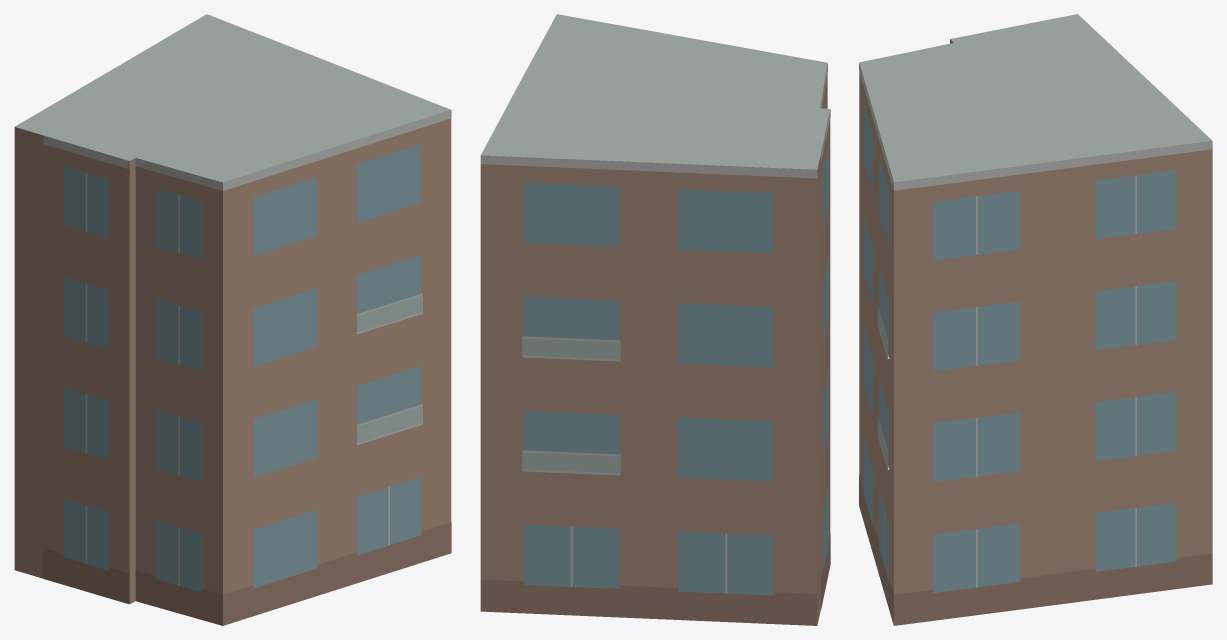
File: survey-upis-33036209.glb
3 views of the same model, side by side, from view 1: azimuth 30°, elevation 25°; view 2: azimuth 150°, elevation 25°; view 3: azimuth 270°, elevation 25° (orthographic). The views are drawn at different scales.
Visible parts, largest first — view 1: survey-upis-33036209.tmp; view 2: survey-upis-33036209.tmp; view 3: survey-upis-33036209.tmp.
Boxes of the visible parts, <box> form: survey-upis-33036209.tmp: <box>14,14,451,625</box>; survey-upis-33036209.tmp: <box>480,14,830,625</box>; survey-upis-33036209.tmp: <box>859,14,1212,625</box>.
Bounding box in the file's own units: 10.43 × 12.8 × 9.26.
